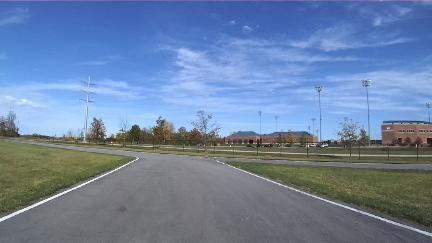Grass: (227, 162, 431, 226), (0, 141, 132, 213), (37, 142, 431, 164)
Lane: (0, 145, 431, 242), (209, 157, 431, 170)
